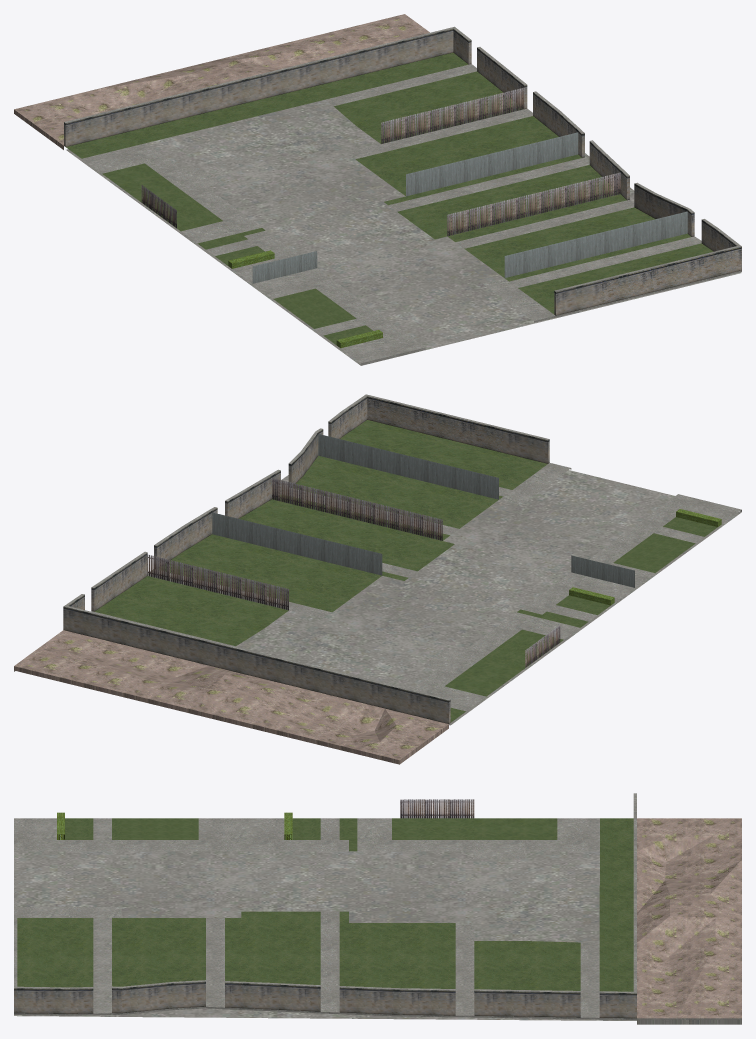
Rendered from oc_flats_gnd08_sfs.obj.
3 views of the same model, one above another, from view 1: azimuth 30°, elevation 25°; view 2: azimuth 150°, elevation 25°; view 3: azimuth 270°, elevation 25° (orthographic). The views are drawn at different scales.
Parts seen in each view (by area): view 1: OC_FLATS_GND08_SFS; view 2: OC_FLATS_GND08_SFS; view 3: OC_FLATS_GND08_SFS.
Part boxes in pixels (x1,y1,x2,y2): OC_FLATS_GND08_SFS: (14,14,741,365); OC_FLATS_GND08_SFS: (14,394,741,764); OC_FLATS_GND08_SFS: (14,793,741,1024).
Bounding box in the file's own units: 37.74 × 3.28 × 58.01.
7 materials, 7 textured.
